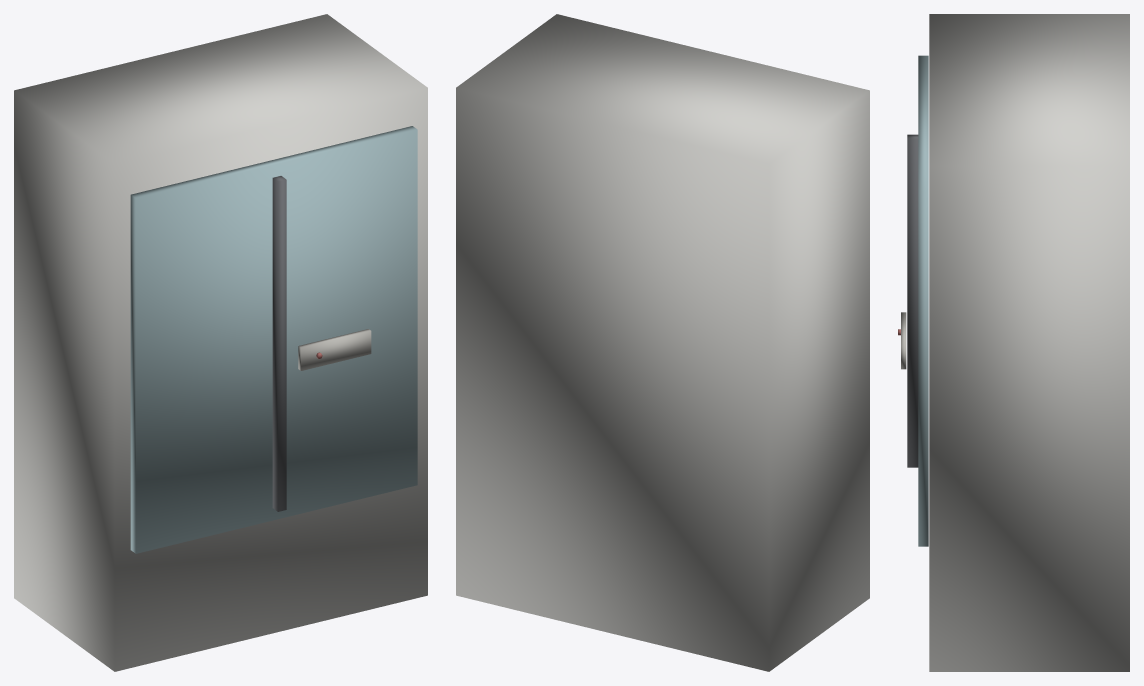
Rendered from refrigerated_display_case__compact.glb.
The picture shows the model from 3 angles, left to right: view 1: azimuth 30°, elevation 25°; view 2: azimuth 150°, elevation 25°; view 3: azimuth 270°, elevation 25°; orthographic projection.
Parts seen in each view (by area): view 1: world; view 2: world; view 3: world.
Boxes of the visible parts, box(x1,y1,x2,y2) form: world: box(14, 14, 427, 671); world: box(456, 14, 869, 671); world: box(898, 14, 1129, 671).
Size of the model in its own units: 1.05 by 1.63 by 0.676.
